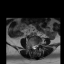CCS_normal: (33, 44, 35, 50)
LFS_normal: (37, 41, 39, 48)
LLS_normal: (35, 44, 37, 49)
RFS_normal: (30, 44, 32, 49)
RLS_normal: (32, 44, 34, 50)
